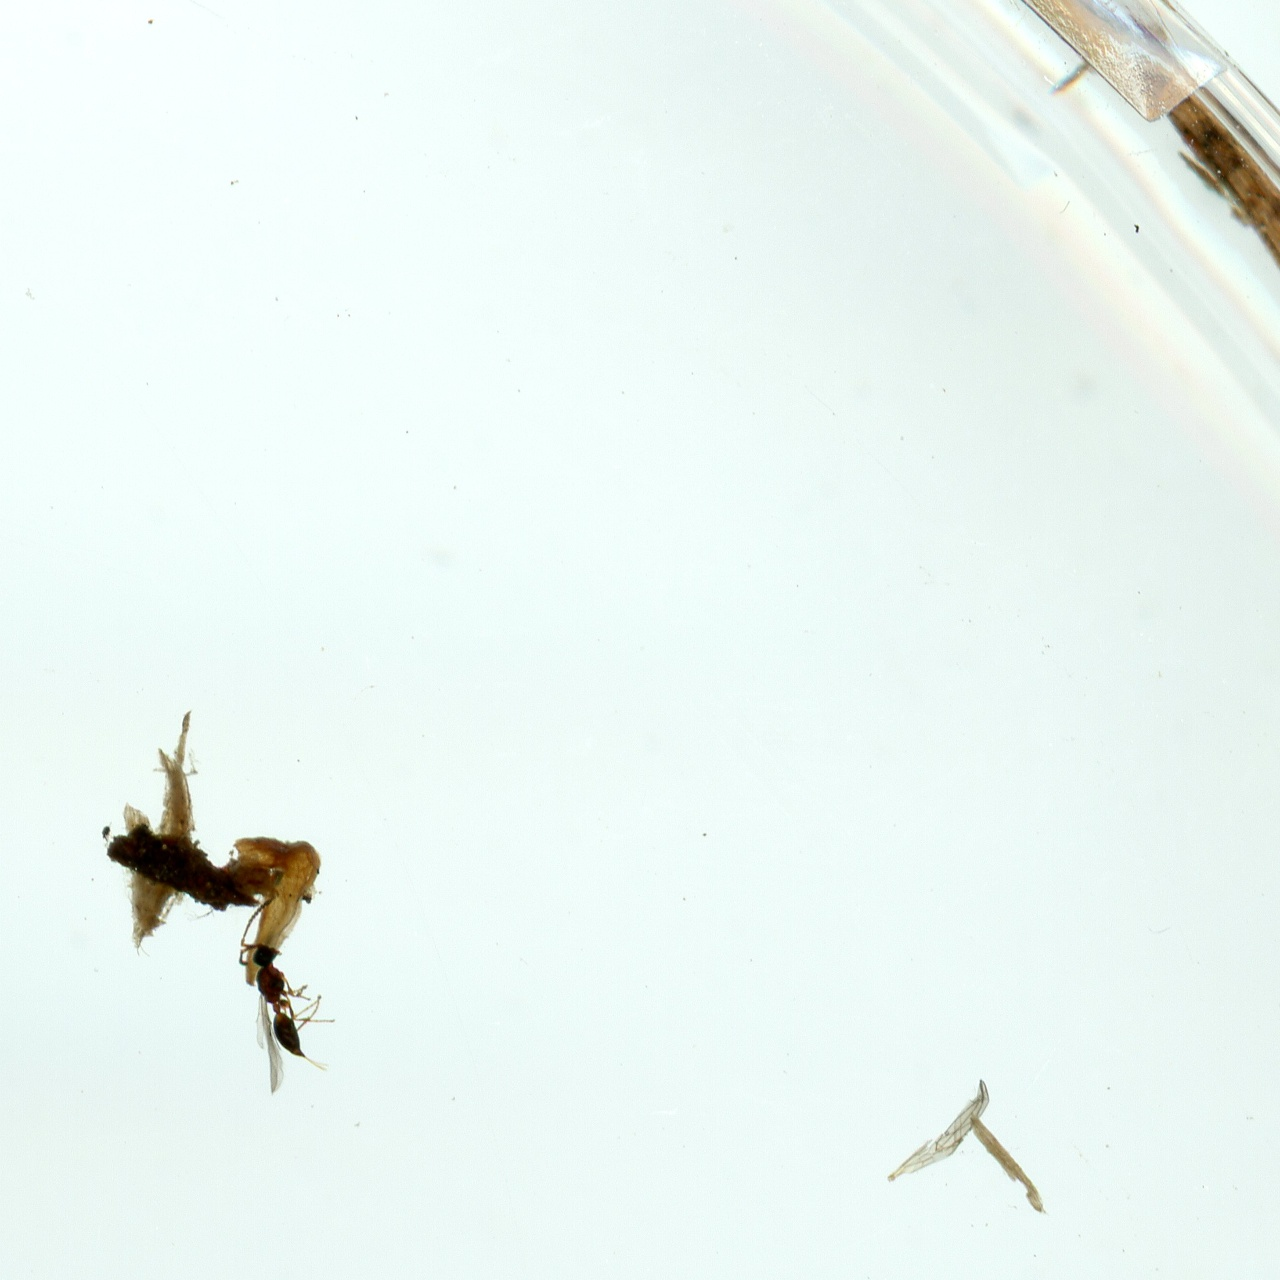arthropod: (202, 874, 359, 1109)
